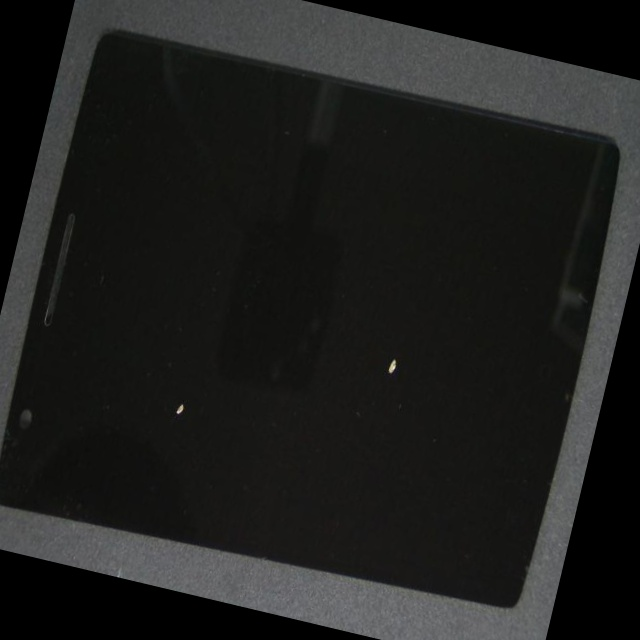stain: (172, 180, 633, 573), (62, 174, 331, 606)
